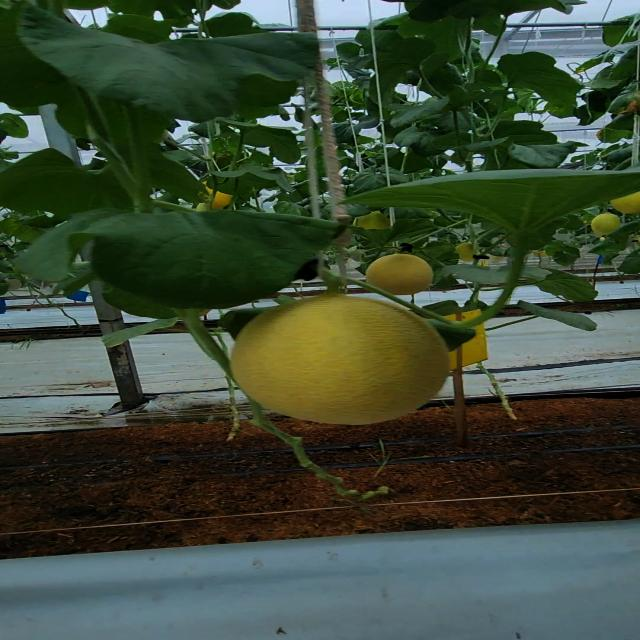Melon: (233, 297, 453, 427)
